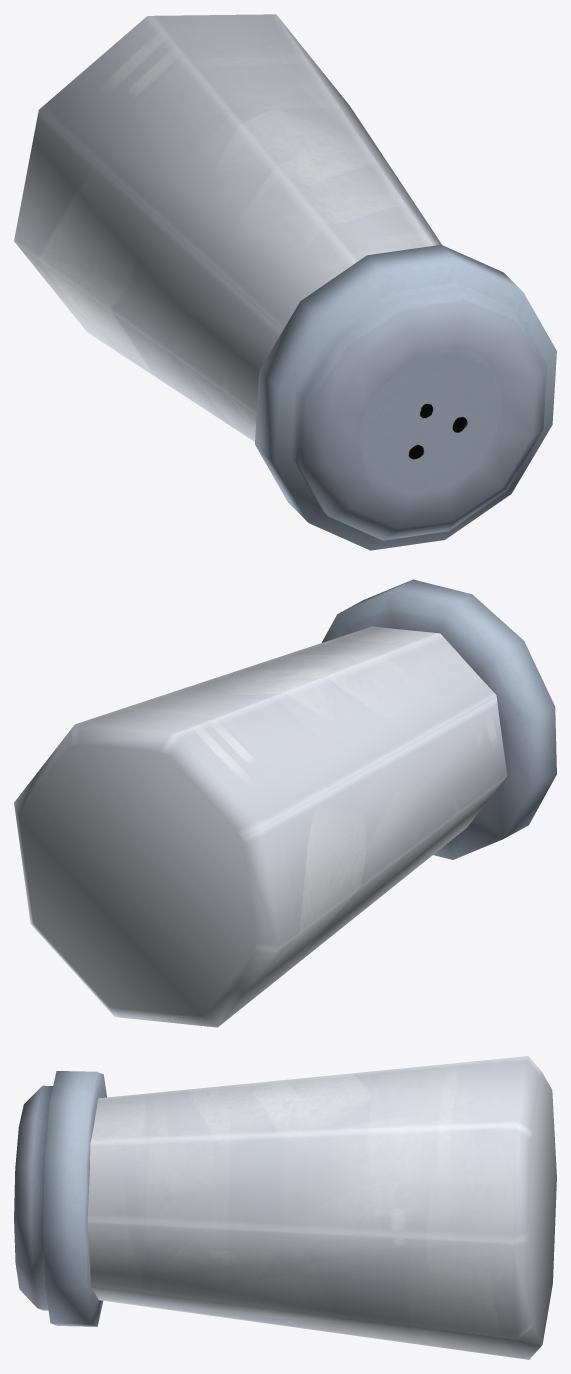
Rendered from Salt.fbx.
3 renders of one model, top to bottom at view 1: azimuth 30°, elevation 25°; view 2: azimuth 150°, elevation 25°; view 3: azimuth 270°, elevation 25°, orthographic. The views are drawn at different scales.
Visible parts, largest first — view 1: Salt; view 2: Salt; view 3: Salt.
Boxes of the visible parts, left/top/right/bottom form: Salt: left=14, top=14, right=556, bottom=550; Salt: left=14, top=579, right=556, bottom=1027; Salt: left=14, top=1056, right=556, bottom=1359.
Size of the model in its own units: 11.2 by 10.42 by 18.61.
